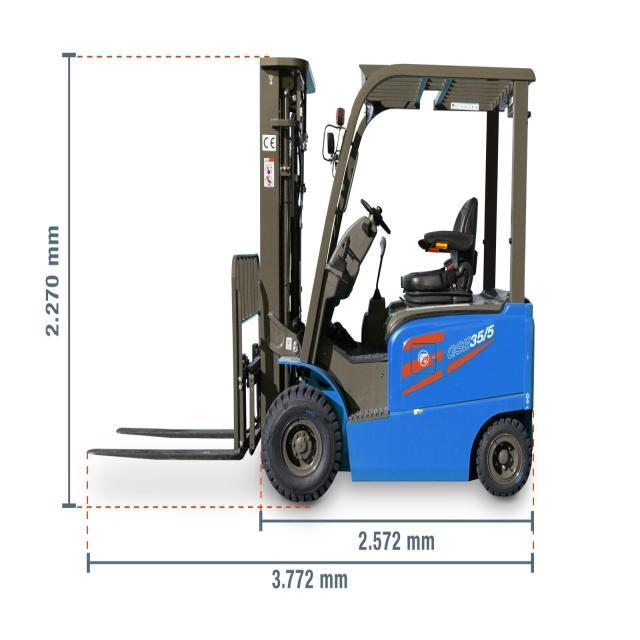forklift: (212, 30, 543, 511)
